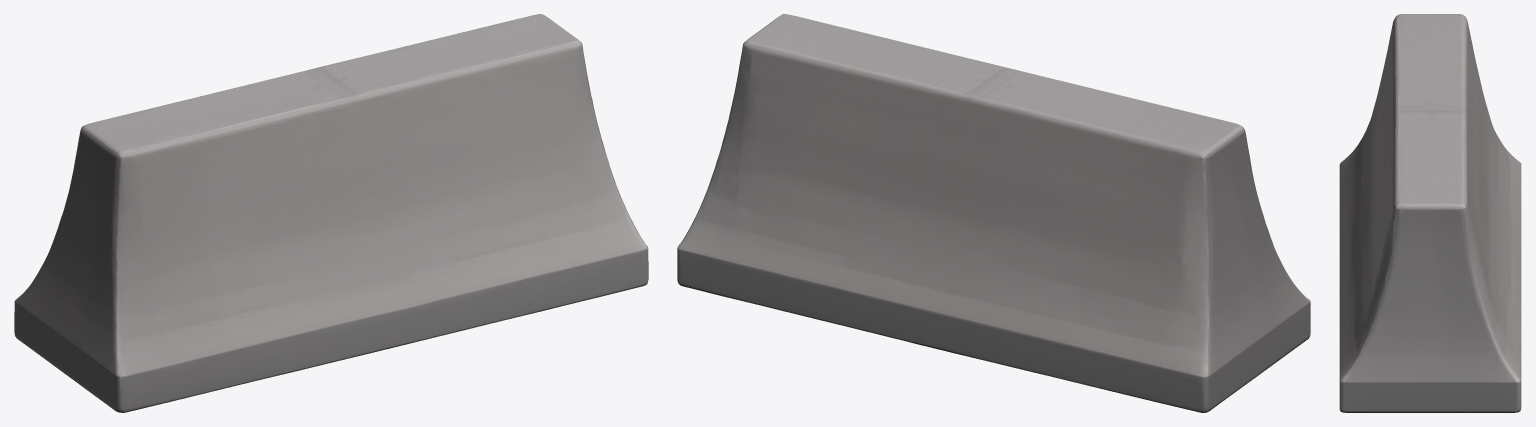
Rendered from concrete-barrier.glb.
3 views of the same model, side by side, from view 1: azimuth 30°, elevation 25°; view 2: azimuth 150°, elevation 25°; view 3: azimuth 270°, elevation 25° (orthographic). The views are drawn at different scales.
Visible parts, largest first — view 1: geometry_0; view 2: geometry_0; view 3: geometry_0.
Boxes of the visible parts, left/top/right/bottom form: geometry_0: left=14, top=14, right=648, bottom=412; geometry_0: left=677, top=14, right=1310, bottom=412; geometry_0: left=1339, top=14, right=1521, bottom=412.
Bounding box in the file's own units: 1 × 0.4119 × 0.3482.
Materials: 1 (1 with a texture image).
